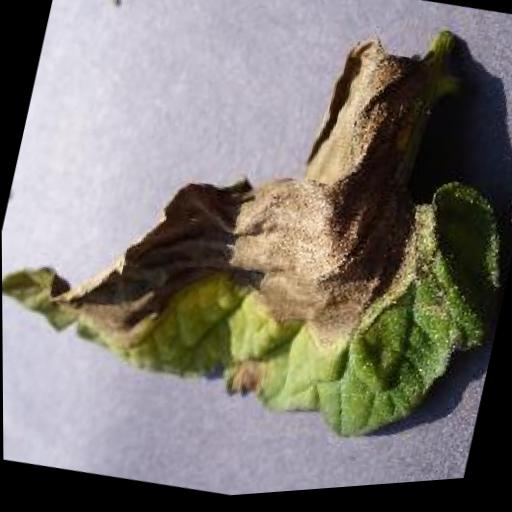Late Blight: (0, 0, 512, 491)
